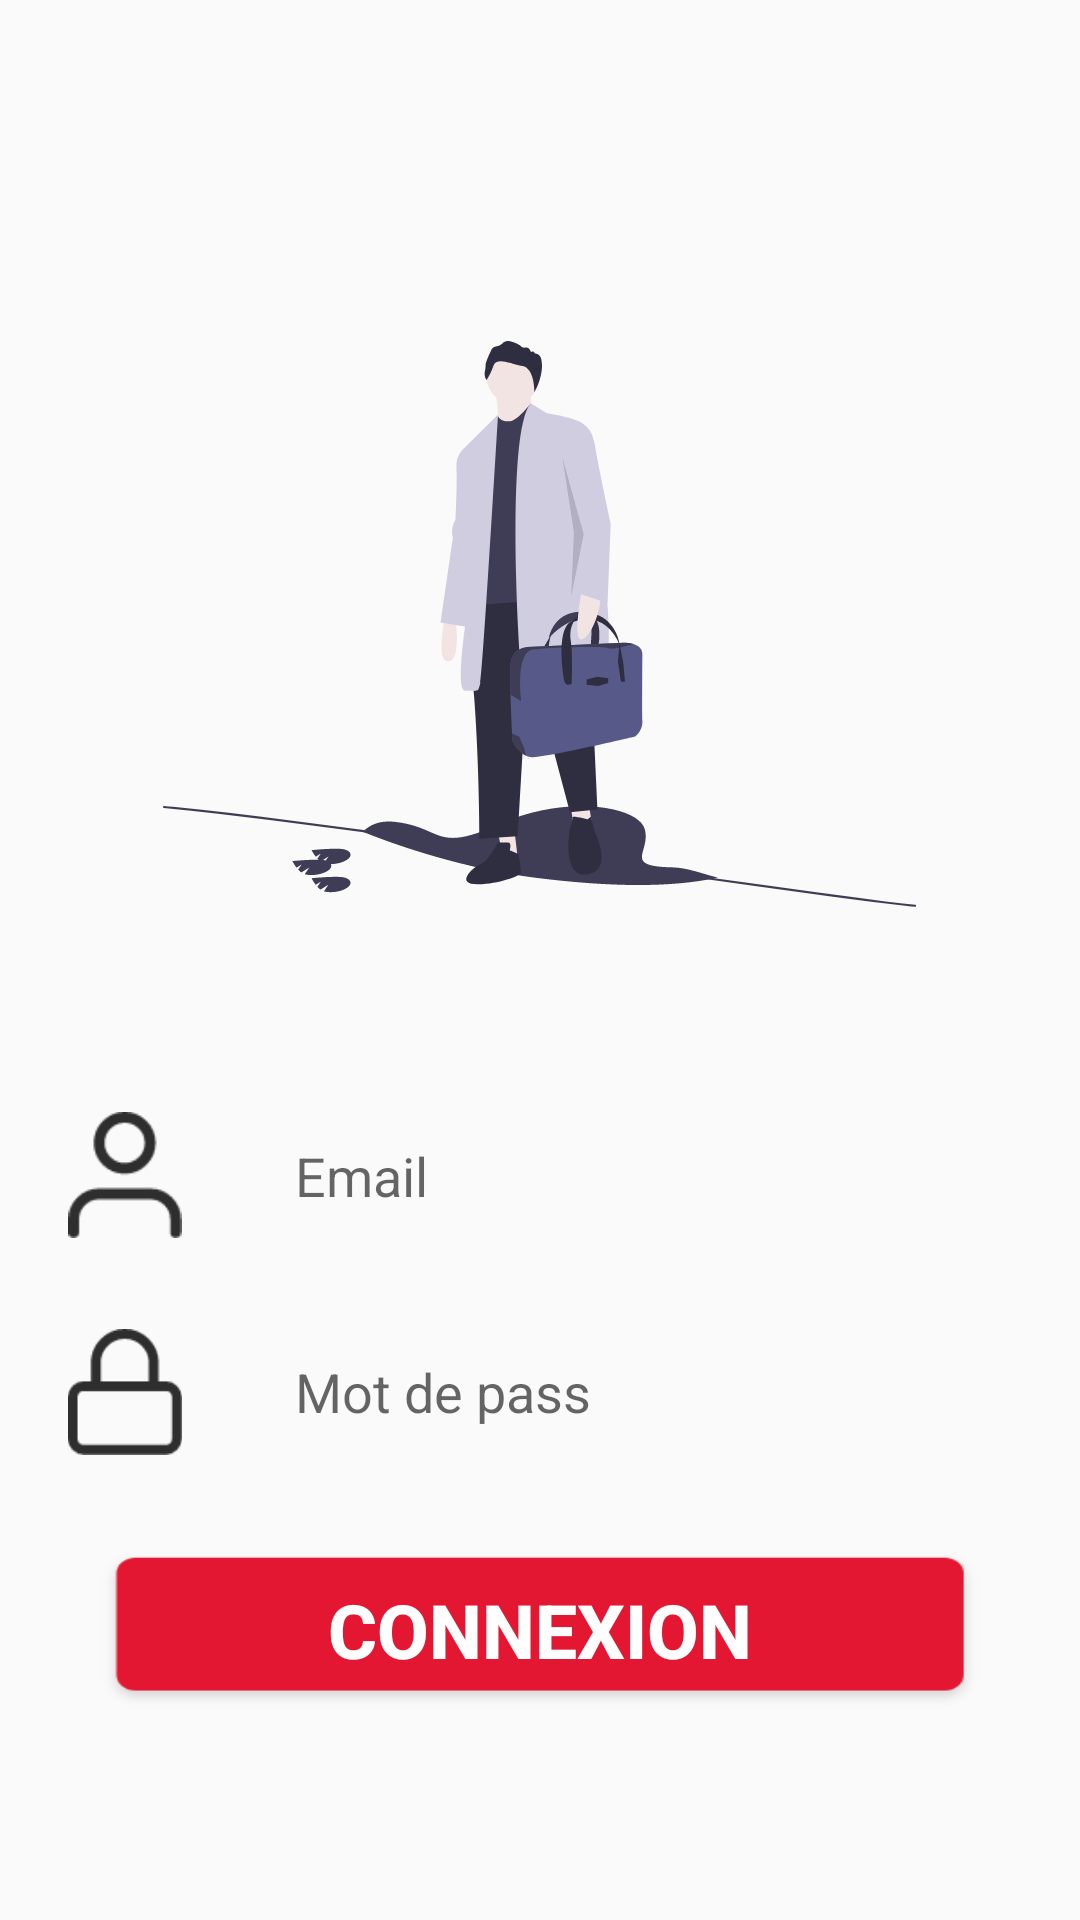

Named icons in this screenshot (1080w x 1920h) and their centers, (x=x, y=y):
feather lock: (x=125, y=1392)
feather user: (x=125, y=1175)
